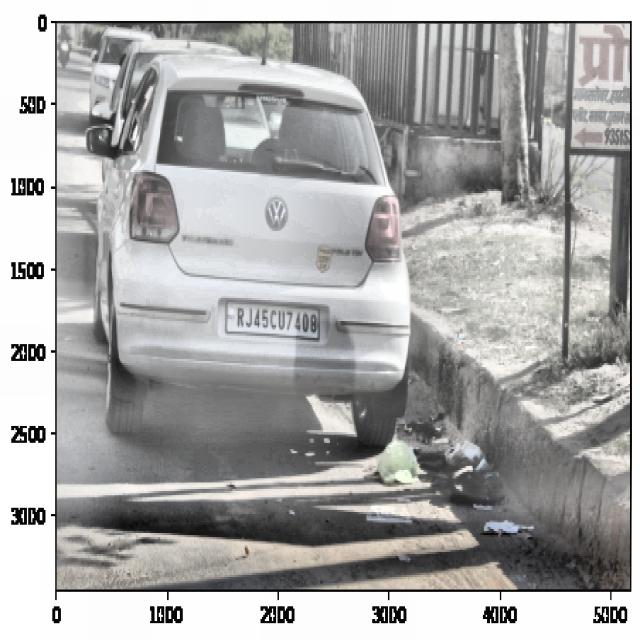license_plate: (230, 301, 322, 342)
